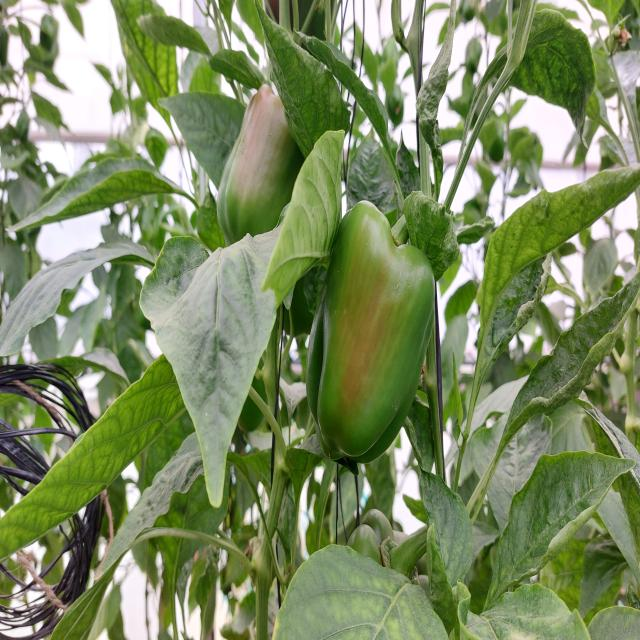Green--Not-ready-to-harvest: (306, 201, 437, 466), (215, 89, 304, 241)
